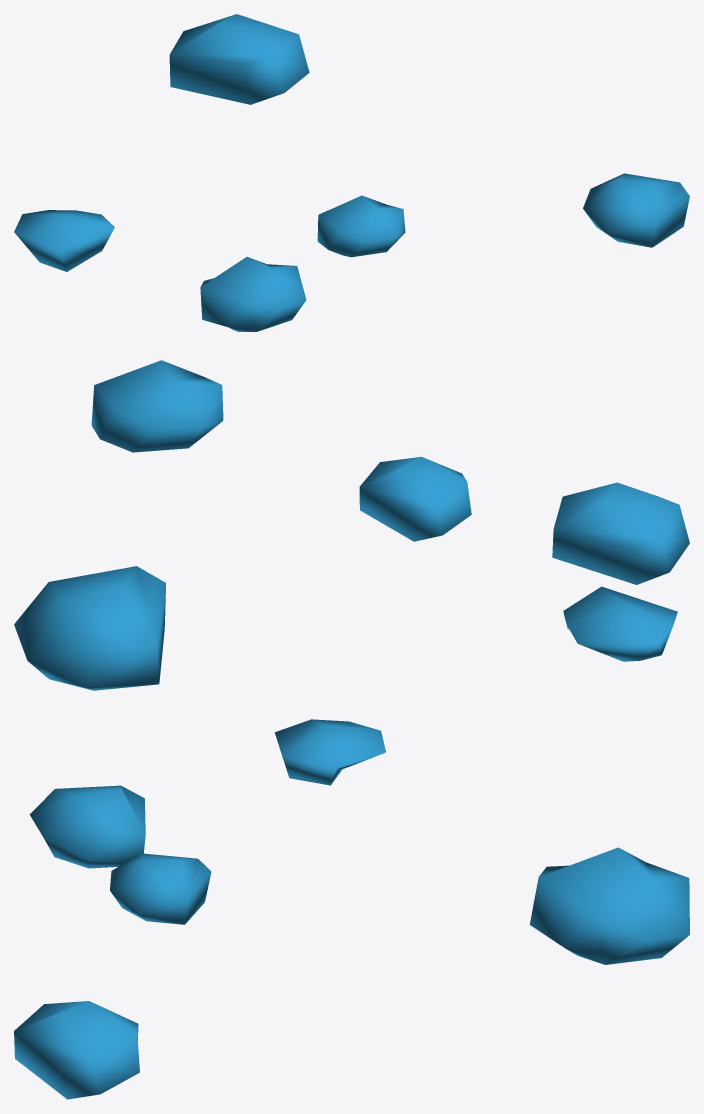
File: Scree_S_02.fbx
3 renders of one model, top to bottom at view 1: azimuth 30°, elevation 25°; view 2: azimuth 150°, elevation 25°; view 3: azimuth 270°, elevation 25°, orthographic. The views are drawn at different scales.
Visible parts, largest first — view 1: Scree_S_02; view 2: Scree_S_02; view 3: Scree_S_02.
Part boxes in pixels (box(x1,y1,x2,y2)): Scree_S_02: box(14, 14, 689, 331); Scree_S_02: box(14, 360, 689, 690); Scree_S_02: box(14, 719, 689, 1099).
Bounding box in the file's own units: 444 × 72.68 × 386.
